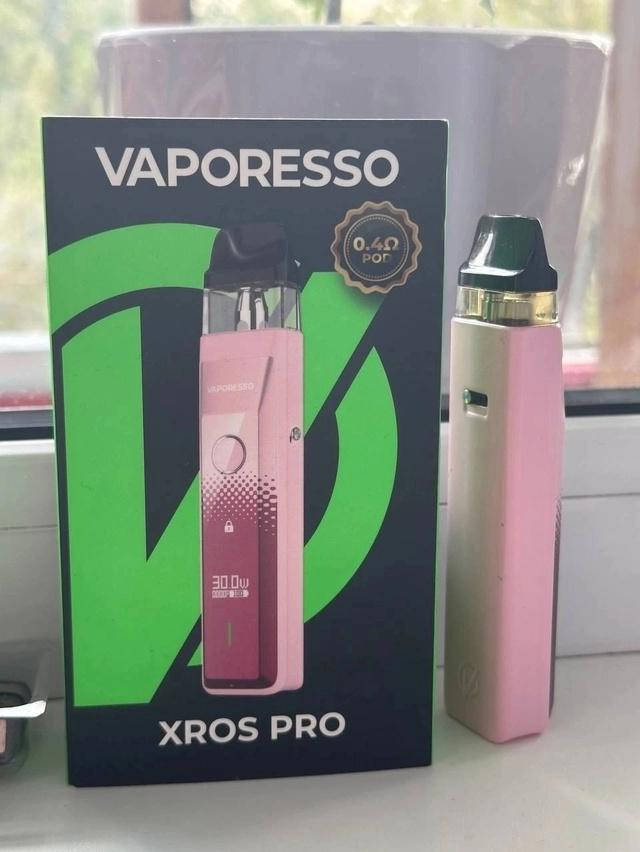Vape: (445, 216, 564, 743)
